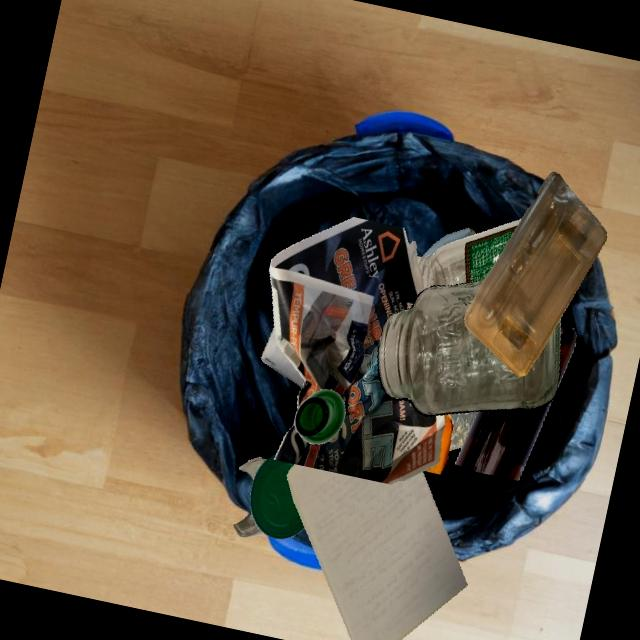biowaste: (424, 413, 452, 473)
cardboard: (416, 255, 421, 260)
glass: (377, 280, 560, 416), (455, 399, 552, 481), (416, 218, 521, 290), (294, 389, 345, 444), (419, 227, 475, 259), (233, 510, 264, 537), (239, 457, 267, 481)
paper: (269, 217, 445, 484), (286, 464, 467, 640), (261, 326, 304, 387)
plastic: (464, 171, 606, 377), (250, 453, 304, 539), (448, 411, 477, 451)
